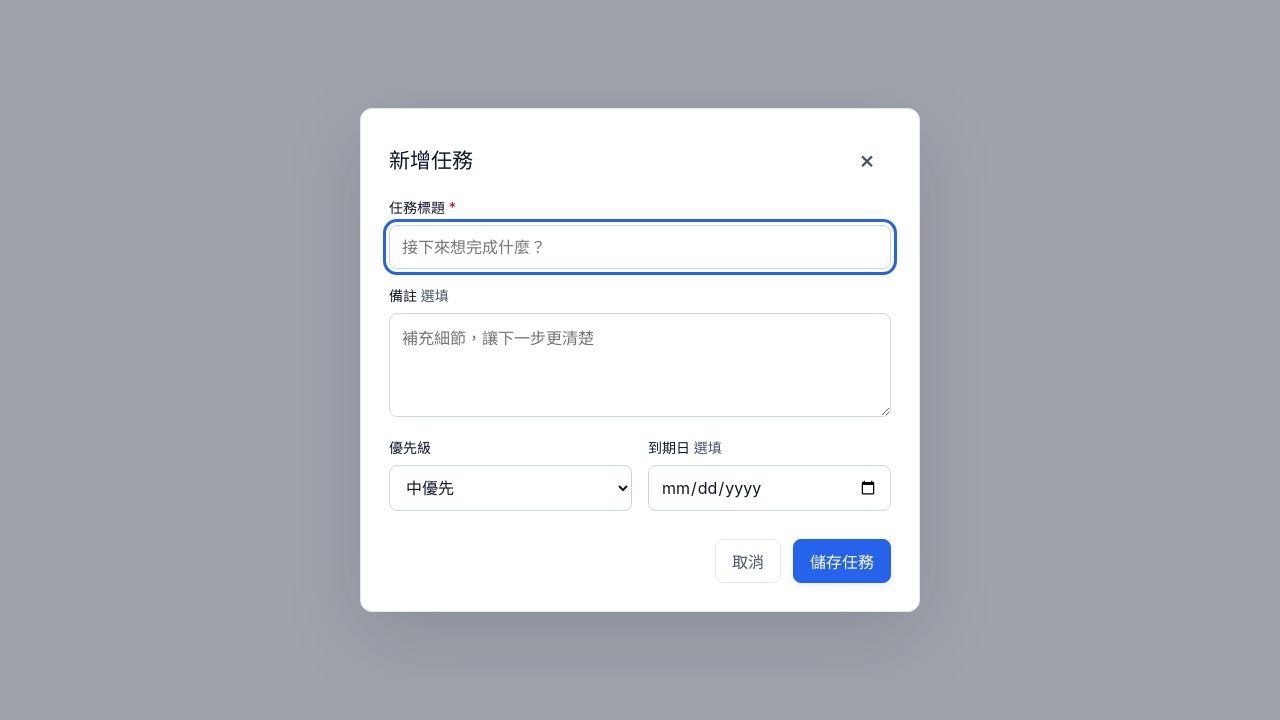
Test case: retains input when the server fails
The width and height of the screenshot is (1280, 720).
Type "保留內容" into the field labelled "任務標題 *" at (640, 247), box [389,225,891,269]
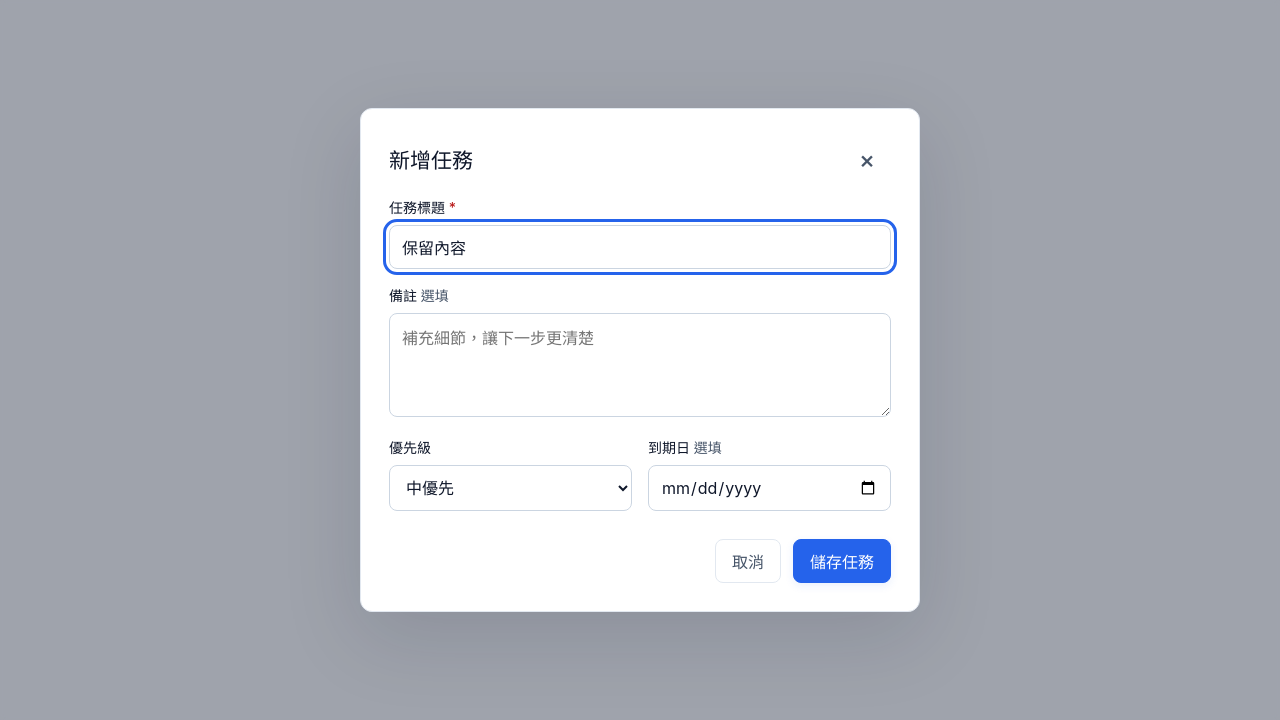
Click the button "儲存任務" at (842, 561), box [793,539,891,583]
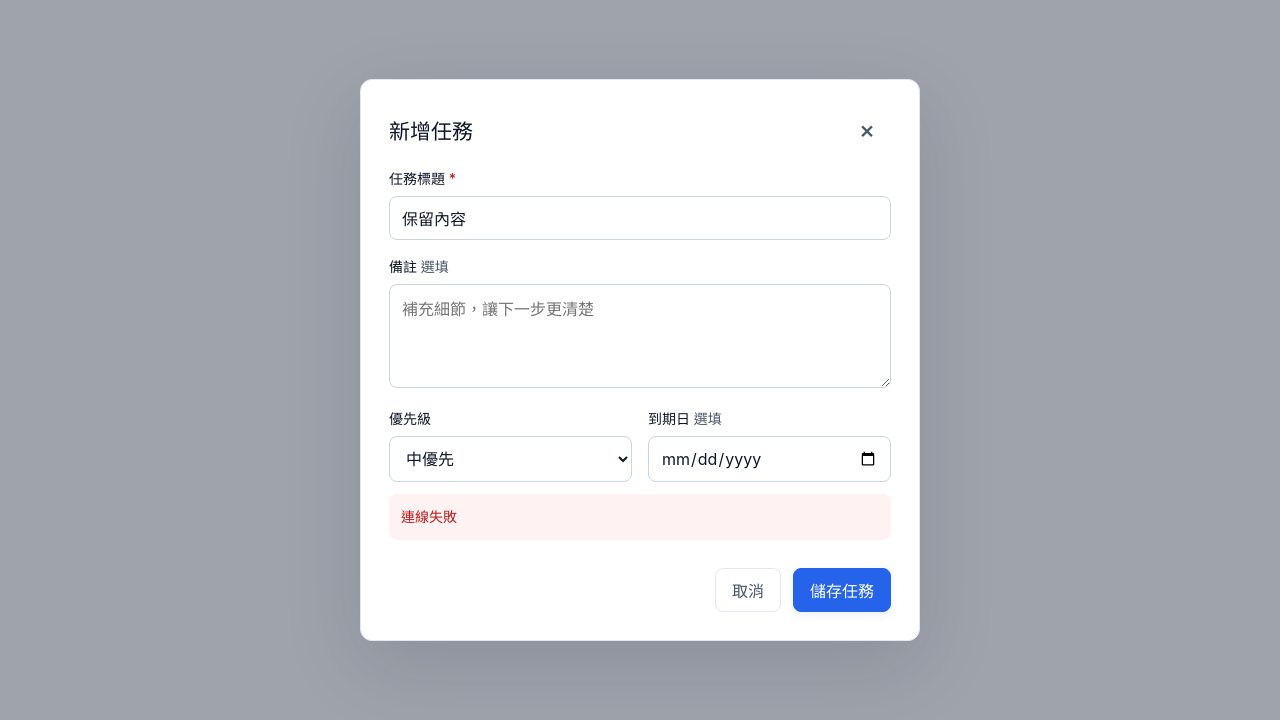
Result: the message reads "連線失敗" at [401,508,457,525]
